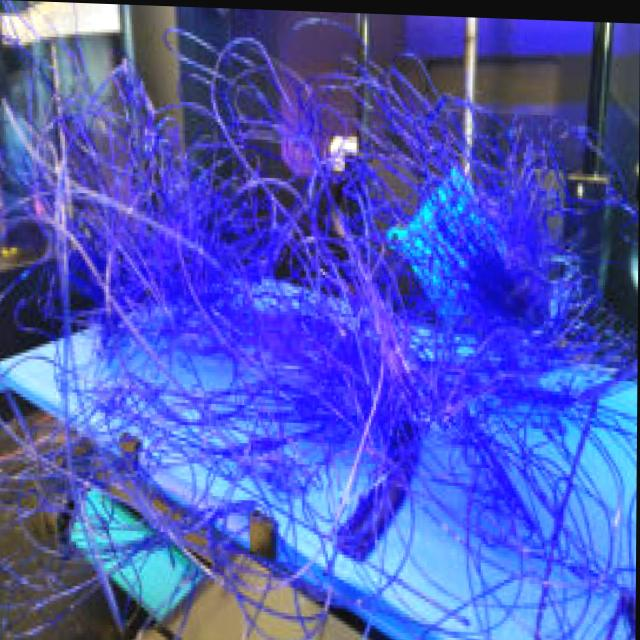spaghetti: (0, 28, 639, 640)
